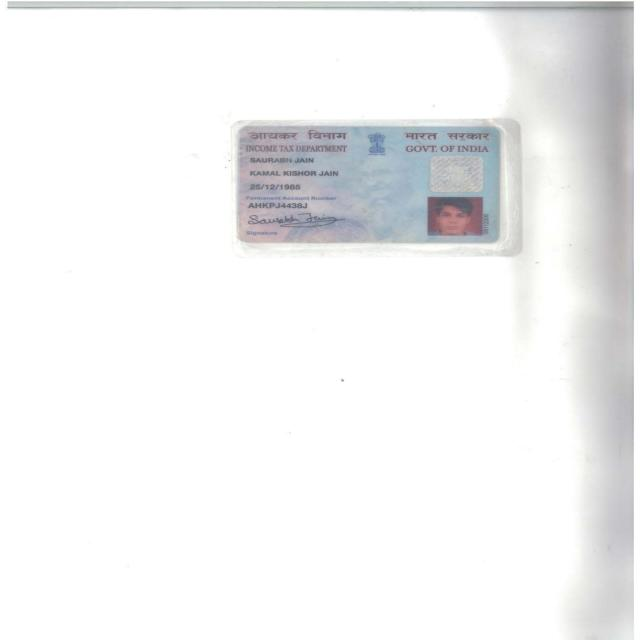pan_card: (235, 122, 508, 246)
